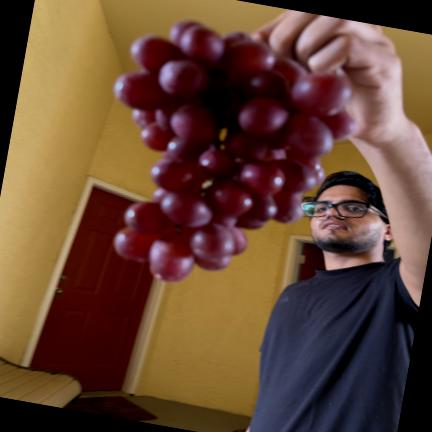grape_cluster: (114, 21, 354, 282)
